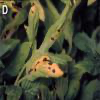Tomato leaf bacterial spot: (25, 3, 68, 82)
